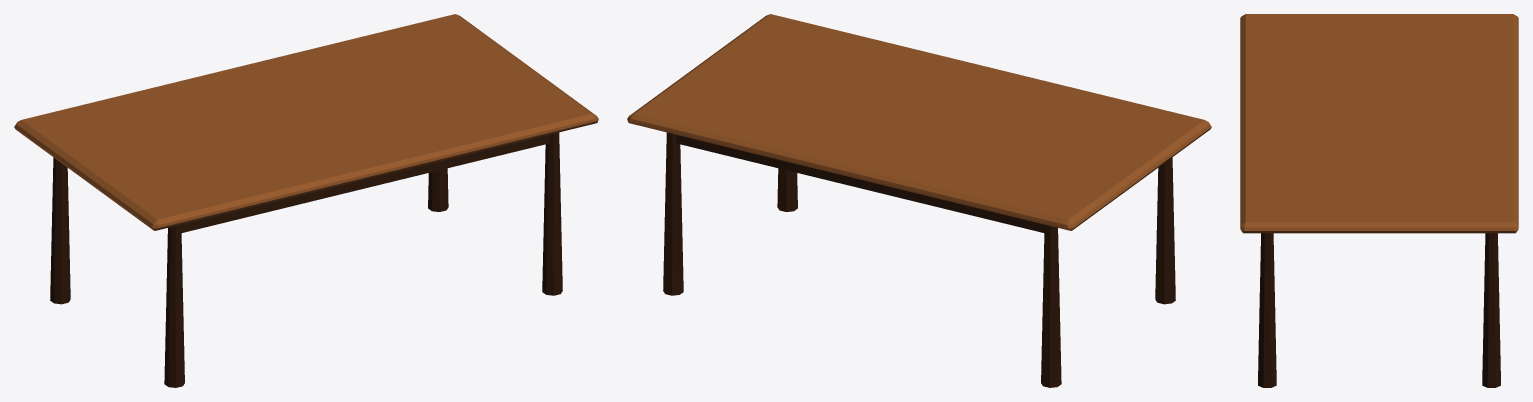
Rendered from INTERIOR_02_Table.obj.
3 views of the same model, side by side, from view 1: azimuth 30°, elevation 25°; view 2: azimuth 150°, elevation 25°; view 3: azimuth 270°, elevation 25° (orthographic).
Parts seen in each view (by area): view 1: INTERIOR_02_Table_Top, INTERIOR_02_Table_Legs, INTERIOR_02_Table_Apron; view 2: INTERIOR_02_Table_Top, INTERIOR_02_Table_Legs, INTERIOR_02_Table_Apron; view 3: INTERIOR_02_Table_Top, INTERIOR_02_Table_Legs.
Part boxes in pixels (bbox=[...]): INTERIOR_02_Table_Top: bbox=[14, 14, 598, 230]; INTERIOR_02_Table_Legs: bbox=[50, 132, 562, 387]; INTERIOR_02_Table_Apron: bbox=[181, 134, 549, 233]; INTERIOR_02_Table_Top: bbox=[627, 14, 1211, 230]; INTERIOR_02_Table_Legs: bbox=[663, 132, 1175, 387]; INTERIOR_02_Table_Apron: bbox=[676, 134, 1044, 233]; INTERIOR_02_Table_Top: bbox=[1240, 14, 1518, 233]; INTERIOR_02_Table_Legs: bbox=[1258, 233, 1500, 387].
Bounding box in the file's own units: 1.99 × 0.76 × 1.09.
